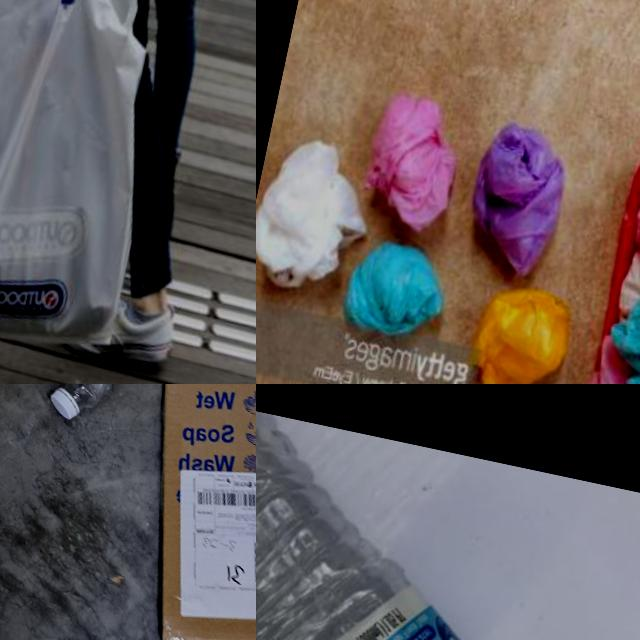garrafa plástica: (256, 384, 621, 640), (17, 384, 141, 428)
papelão: (68, 384, 256, 640)
sacola plástica: (0, 0, 214, 384), (440, 91, 604, 304), (256, 119, 380, 330), (352, 52, 486, 232), (314, 230, 456, 364), (437, 263, 577, 384)
tampa plástica: (43, 384, 84, 422)
